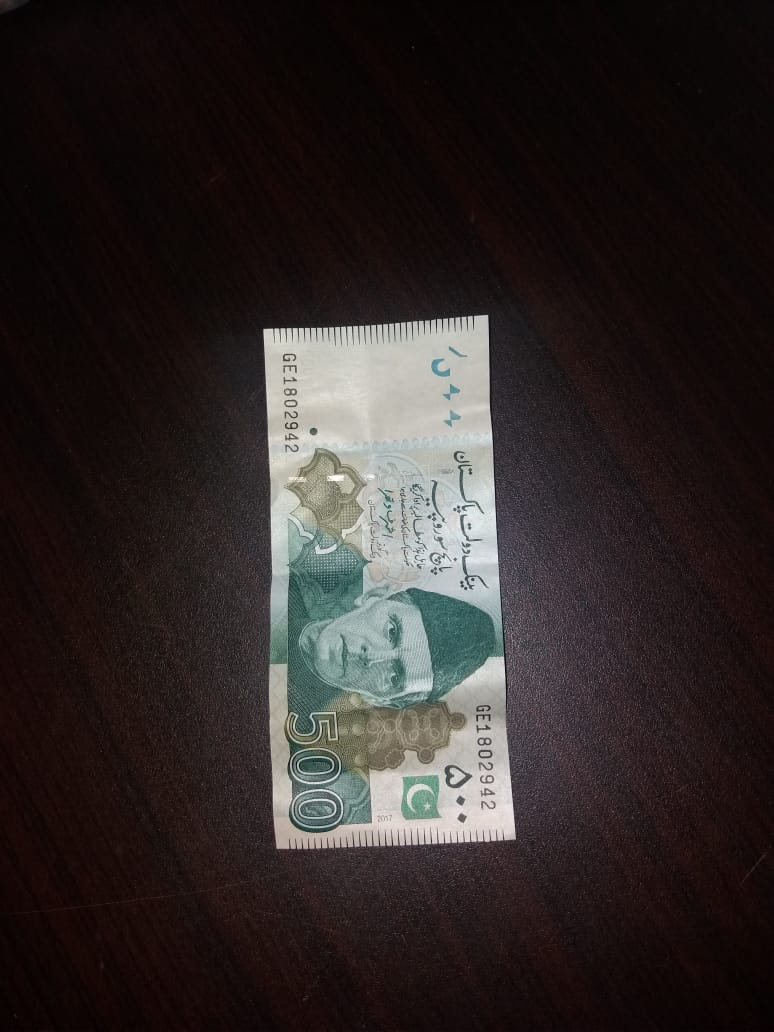500 rupee: (240, 303, 517, 905)
